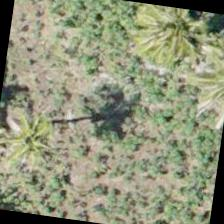Kelapa_Sawit: (0, 86, 84, 187), (124, 1, 222, 80)
